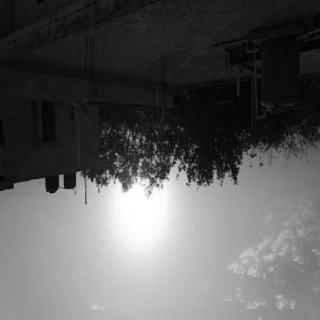other: (118, 157, 170, 243)
